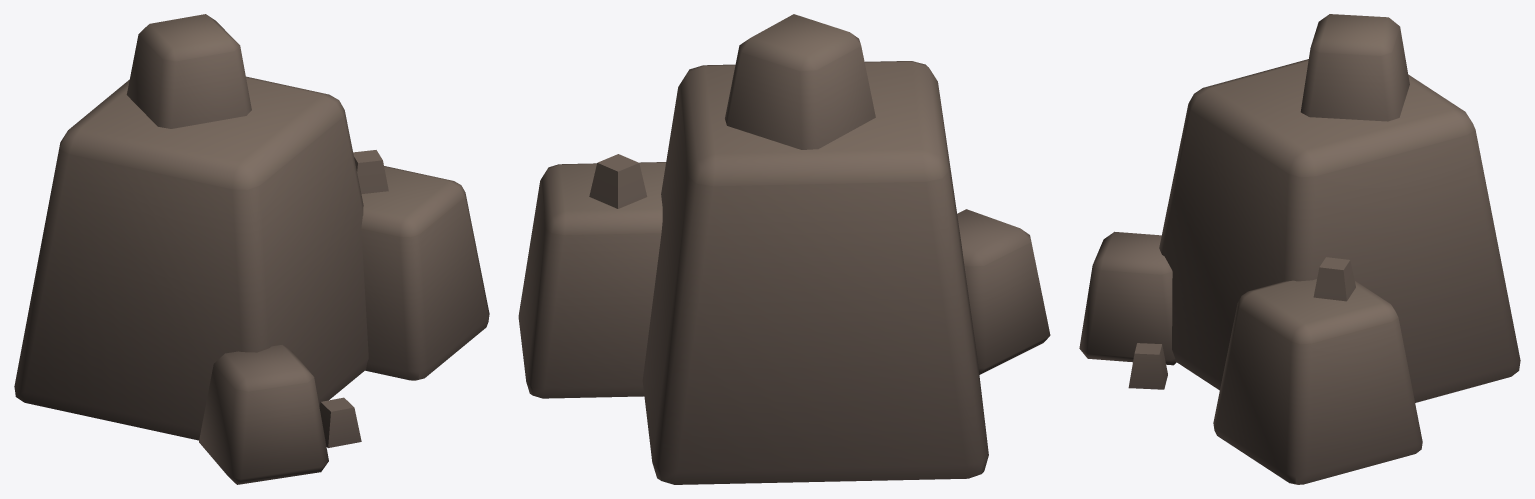
The model's file is Rock_2_H_Color6.fbx.
3 renders of one model, left to right at view 1: azimuth 30°, elevation 25°; view 2: azimuth 150°, elevation 25°; view 3: azimuth 270°, elevation 25°, orthographic. The views are drawn at different scales.
Visible parts, largest first — view 1: Rock_2_H_Color6; view 2: Rock_2_H_Color6; view 3: Rock_2_H_Color6.
Boxes of the visible parts, <box> form: Rock_2_H_Color6: <box>14,14,489,484</box>; Rock_2_H_Color6: <box>518,14,1050,484</box>; Rock_2_H_Color6: <box>1079,14,1520,484</box>.
Bounding box in the file's own units: 3.7 × 2.76 × 3.31.
